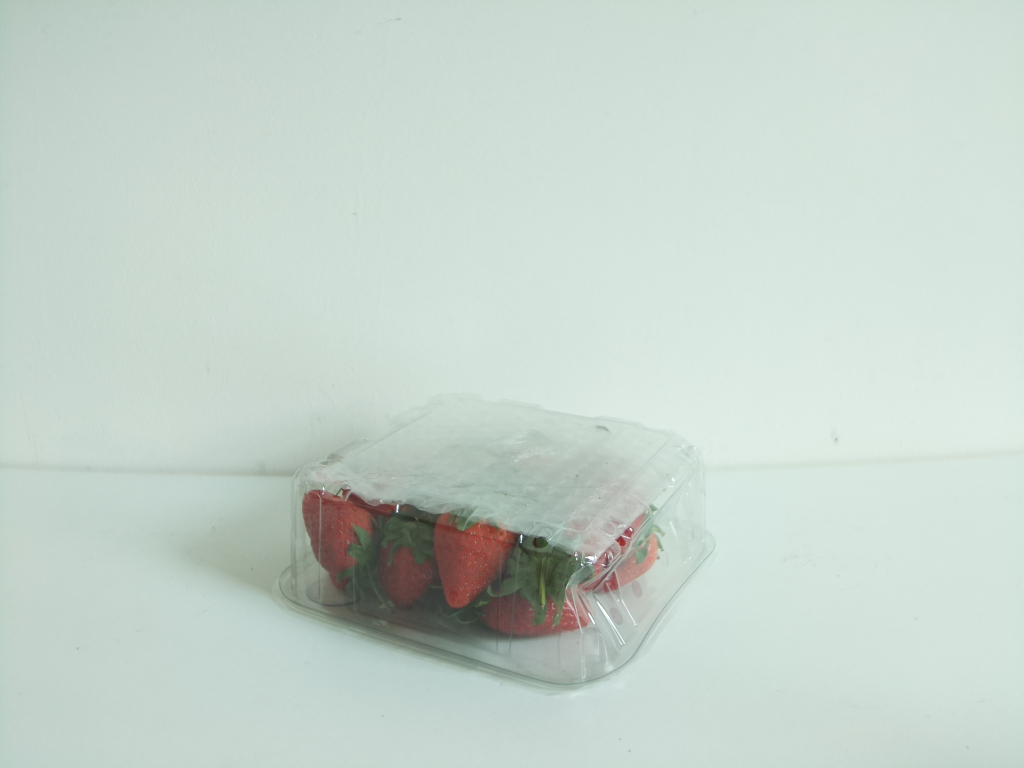soft-fruit: (263, 384, 726, 694)
